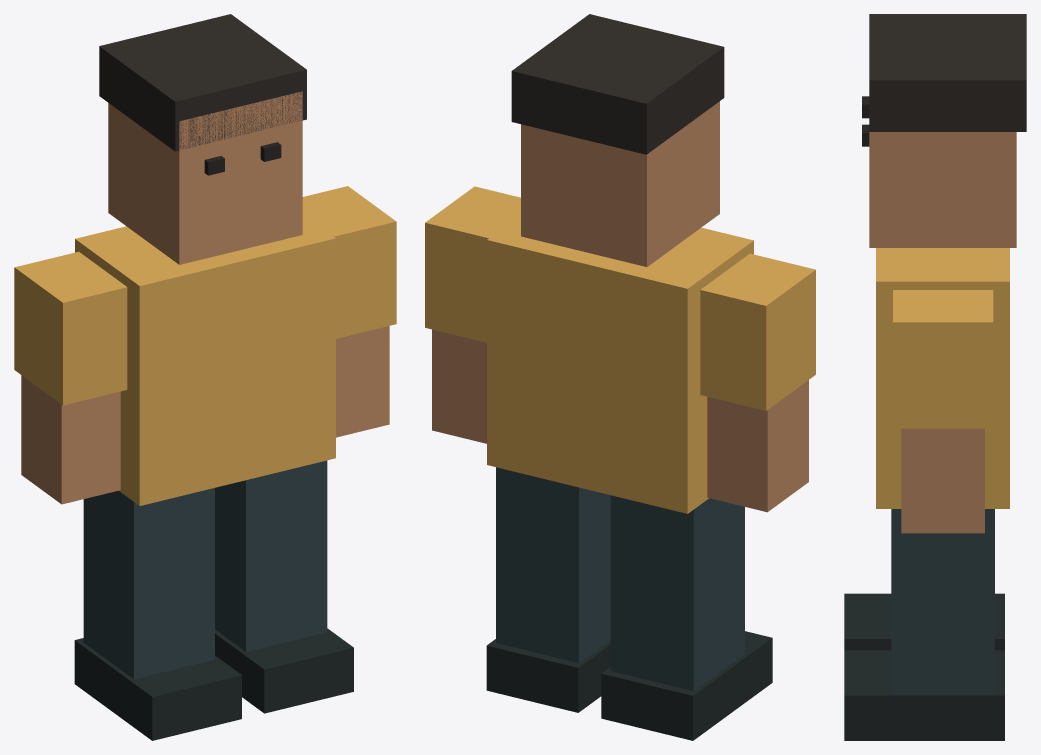
File: marcos.glb
3 views of the same model, side by side, from view 1: azimuth 30°, elevation 25°; view 2: azimuth 150°, elevation 25°; view 3: azimuth 270°, elevation 25° (orthographic). The views are drawn at different scales.
Size of the model in its own units: 1.19 by 2.12 by 0.545.
